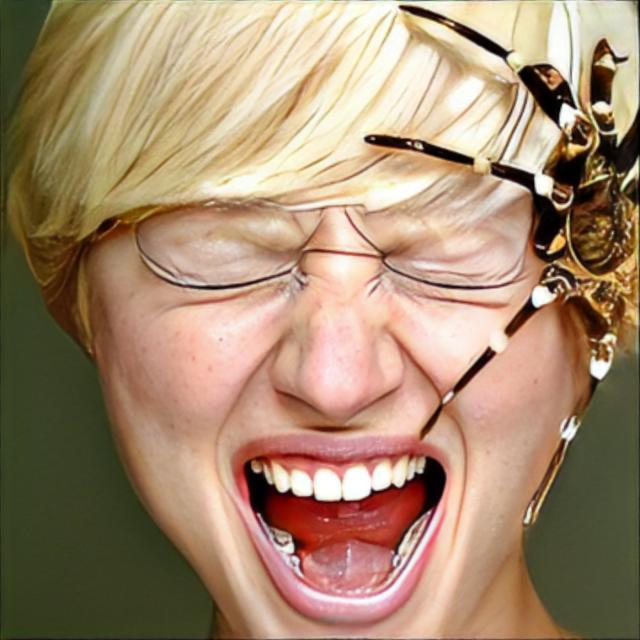fear: (82, 52, 605, 640)
